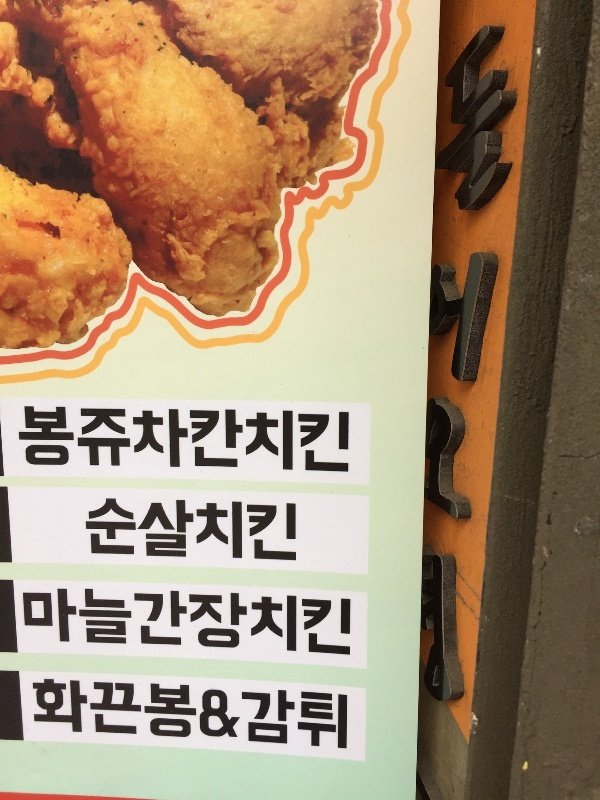text: (449, 22, 464, 725), (465, 22, 480, 725), (481, 22, 496, 725), (497, 22, 512, 725), (513, 22, 525, 725), (441, 22, 448, 725), (33, 676, 48, 756), (49, 676, 64, 756), (65, 676, 80, 756), (81, 676, 96, 756), (97, 676, 112, 756), (113, 676, 128, 756), (129, 676, 144, 756), (145, 676, 160, 756), (161, 676, 176, 756), (177, 676, 192, 756), (193, 676, 208, 756), (209, 676, 224, 756), (225, 676, 240, 756), (241, 676, 256, 756), (257, 676, 272, 756), (273, 676, 288, 756), (289, 676, 304, 756), (305, 676, 320, 756), (321, 676, 336, 756), (17, 403, 32, 480), (33, 403, 48, 480), (49, 403, 64, 480), (65, 403, 80, 480), (81, 403, 96, 480), (97, 403, 112, 480), (113, 403, 128, 480), (129, 403, 144, 480), (145, 403, 160, 480), (161, 403, 176, 480), (177, 403, 192, 480), (193, 403, 208, 480), (209, 403, 224, 480), (225, 403, 240, 480), (241, 403, 256, 480), (257, 403, 272, 480), (273, 403, 288, 480), (289, 403, 304, 480), (305, 403, 320, 480), (321, 403, 336, 480), (33, 586, 48, 662), (49, 586, 64, 662), (65, 586, 80, 662), (81, 586, 96, 662), (97, 586, 112, 662), (113, 586, 128, 662), (129, 586, 144, 662), (145, 586, 160, 662), (161, 586, 176, 662), (177, 586, 192, 662), (193, 586, 208, 662), (209, 586, 224, 662), (225, 586, 240, 662), (241, 586, 256, 662), (257, 586, 272, 662), (273, 586, 288, 662), (289, 586, 304, 662), (305, 586, 320, 662), (321, 586, 336, 662), (337, 403, 351, 480), (337, 586, 351, 662), (97, 499, 112, 567), (113, 499, 128, 567), (129, 499, 144, 567), (145, 499, 160, 567), (161, 499, 176, 567), (177, 499, 192, 567), (193, 499, 208, 567), (209, 499, 224, 567), (225, 499, 240, 567), (241, 499, 256, 567), (257, 499, 272, 567), (273, 499, 288, 567), (337, 676, 349, 756), (84, 499, 96, 567), (22, 586, 32, 662), (289, 499, 297, 567), (30, 676, 32, 756)
